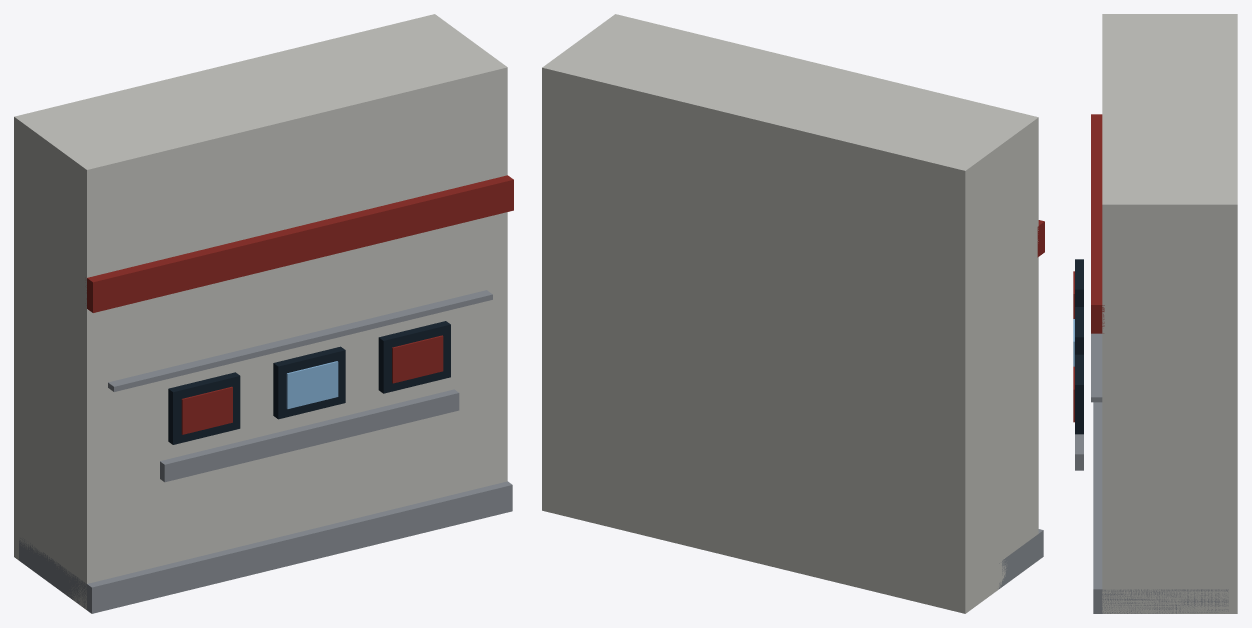
File: republic_wall_detail.glb
3 views of the same model, side by side, from view 1: azimuth 30°, elevation 25°; view 2: azimuth 150°, elevation 25°; view 3: azimuth 270°, elevation 25° (orthographic). The views are drawn at different scales.
Parts seen in each view (by area): view 1: republic_wall_detail; view 2: republic_wall_detail; view 3: republic_wall_detail.
Boxes of the visible parts, x1=… form: republic_wall_detail: x1=14, y1=14, x2=513, y2=613; republic_wall_detail: x1=542, y1=14, x2=1044, y2=613; republic_wall_detail: x1=1073, y1=14, x2=1237, y2=613.
Bounding box in the file's own units: 1 × 1 × 0.364.
